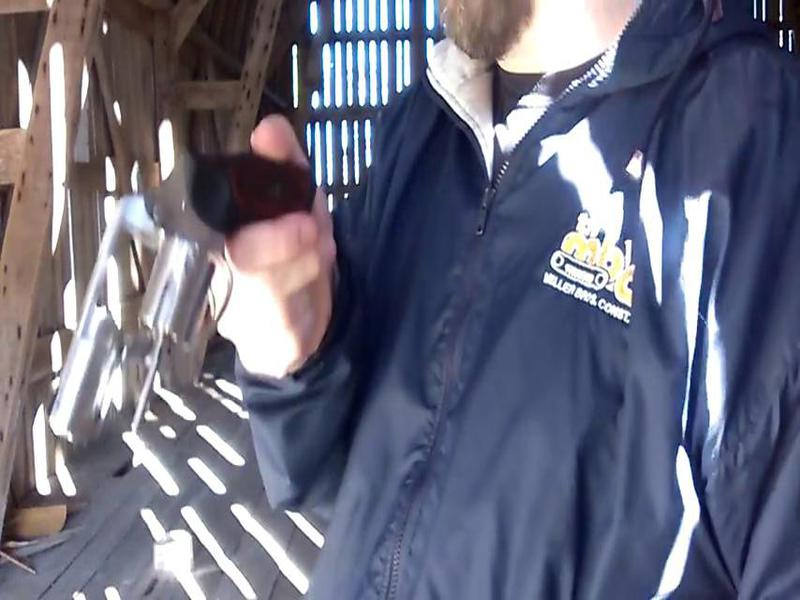Revolver: (44, 143, 334, 455)
